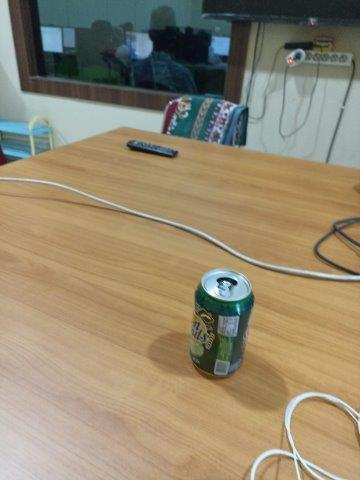kaleng: (191, 267, 255, 379)
